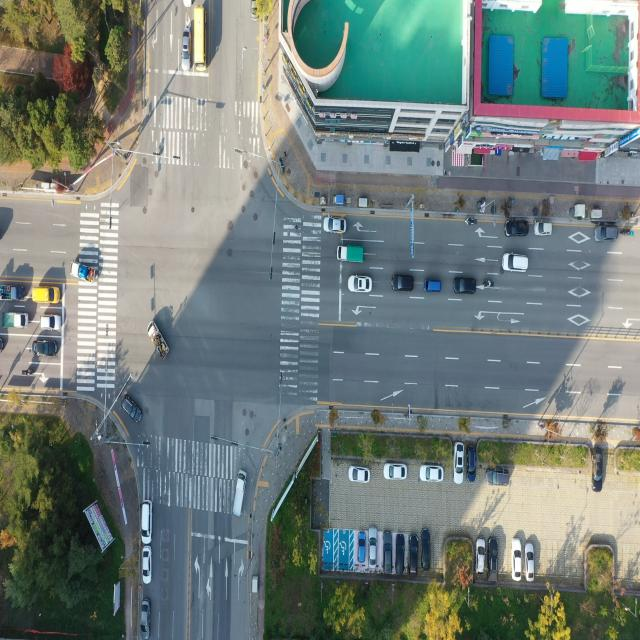car: (124, 396, 144, 424), (33, 285, 62, 304), (141, 500, 153, 545), (484, 539, 496, 579), (504, 253, 529, 272), (139, 600, 150, 640), (395, 535, 406, 575), (421, 528, 431, 572), (487, 470, 511, 488), (510, 541, 520, 583), (384, 532, 394, 574), (592, 447, 603, 485), (421, 464, 444, 482), (34, 341, 58, 358), (455, 443, 465, 483), (411, 533, 421, 573), (392, 275, 414, 293), (384, 463, 406, 481), (349, 277, 372, 294), (325, 217, 348, 234), (507, 220, 530, 237), (596, 227, 618, 244), (350, 466, 370, 484), (478, 539, 488, 575), (182, 28, 190, 73), (142, 548, 152, 584), (466, 446, 476, 482), (455, 278, 476, 295), (368, 528, 377, 566), (40, 315, 61, 331), (357, 531, 367, 564), (526, 542, 534, 580), (424, 280, 442, 294), (535, 222, 552, 236), (183, 0, 193, 8), (0, 338, 5, 354)
small_bus: (195, 7, 210, 72)
small_truck: (147, 320, 169, 360), (233, 470, 248, 517), (72, 262, 97, 283), (339, 243, 366, 262), (1, 311, 27, 330), (0, 283, 25, 302)
